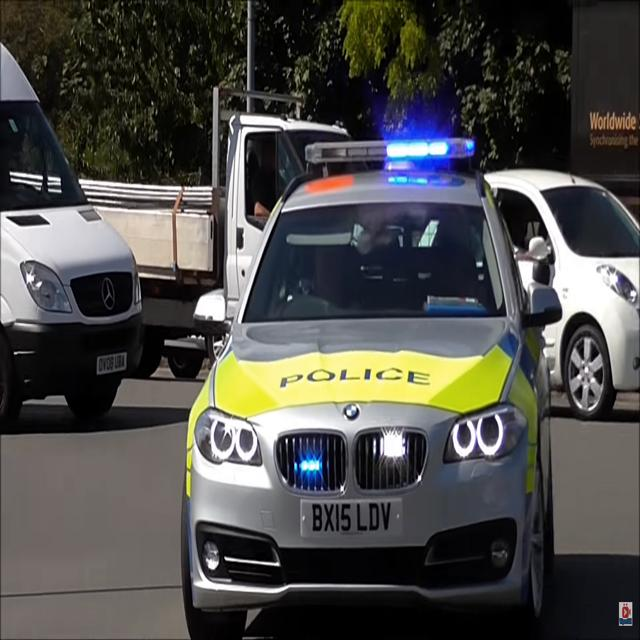emergency-vehicles: (173, 125, 574, 640)
